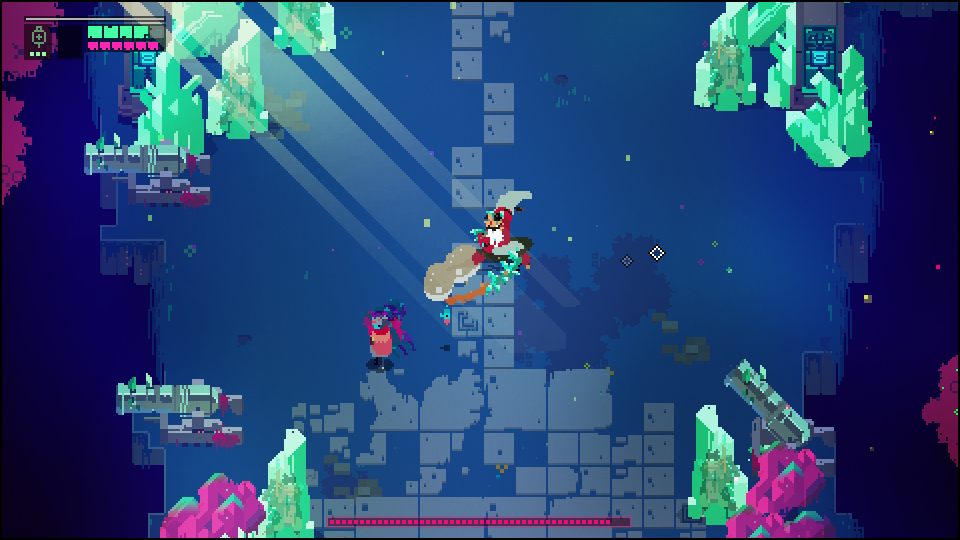hanged_man: (454, 186, 537, 301)
player: (366, 309, 394, 369)
